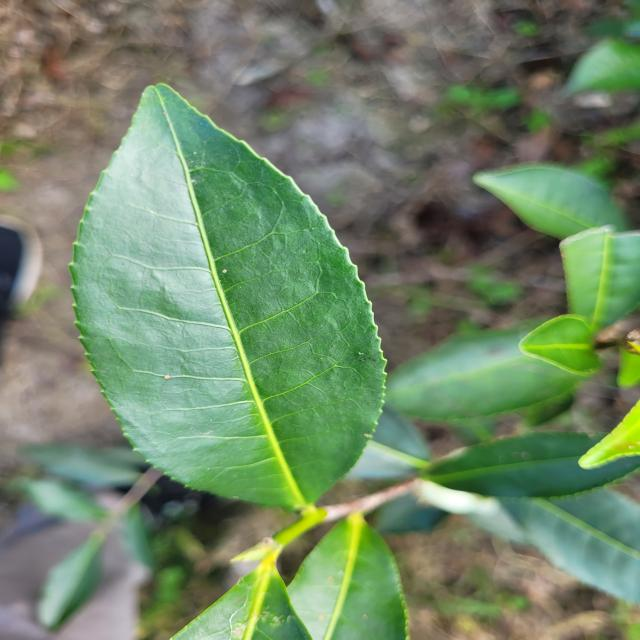Category D(7+ days, Not for Tea): (56, 72, 406, 530)
